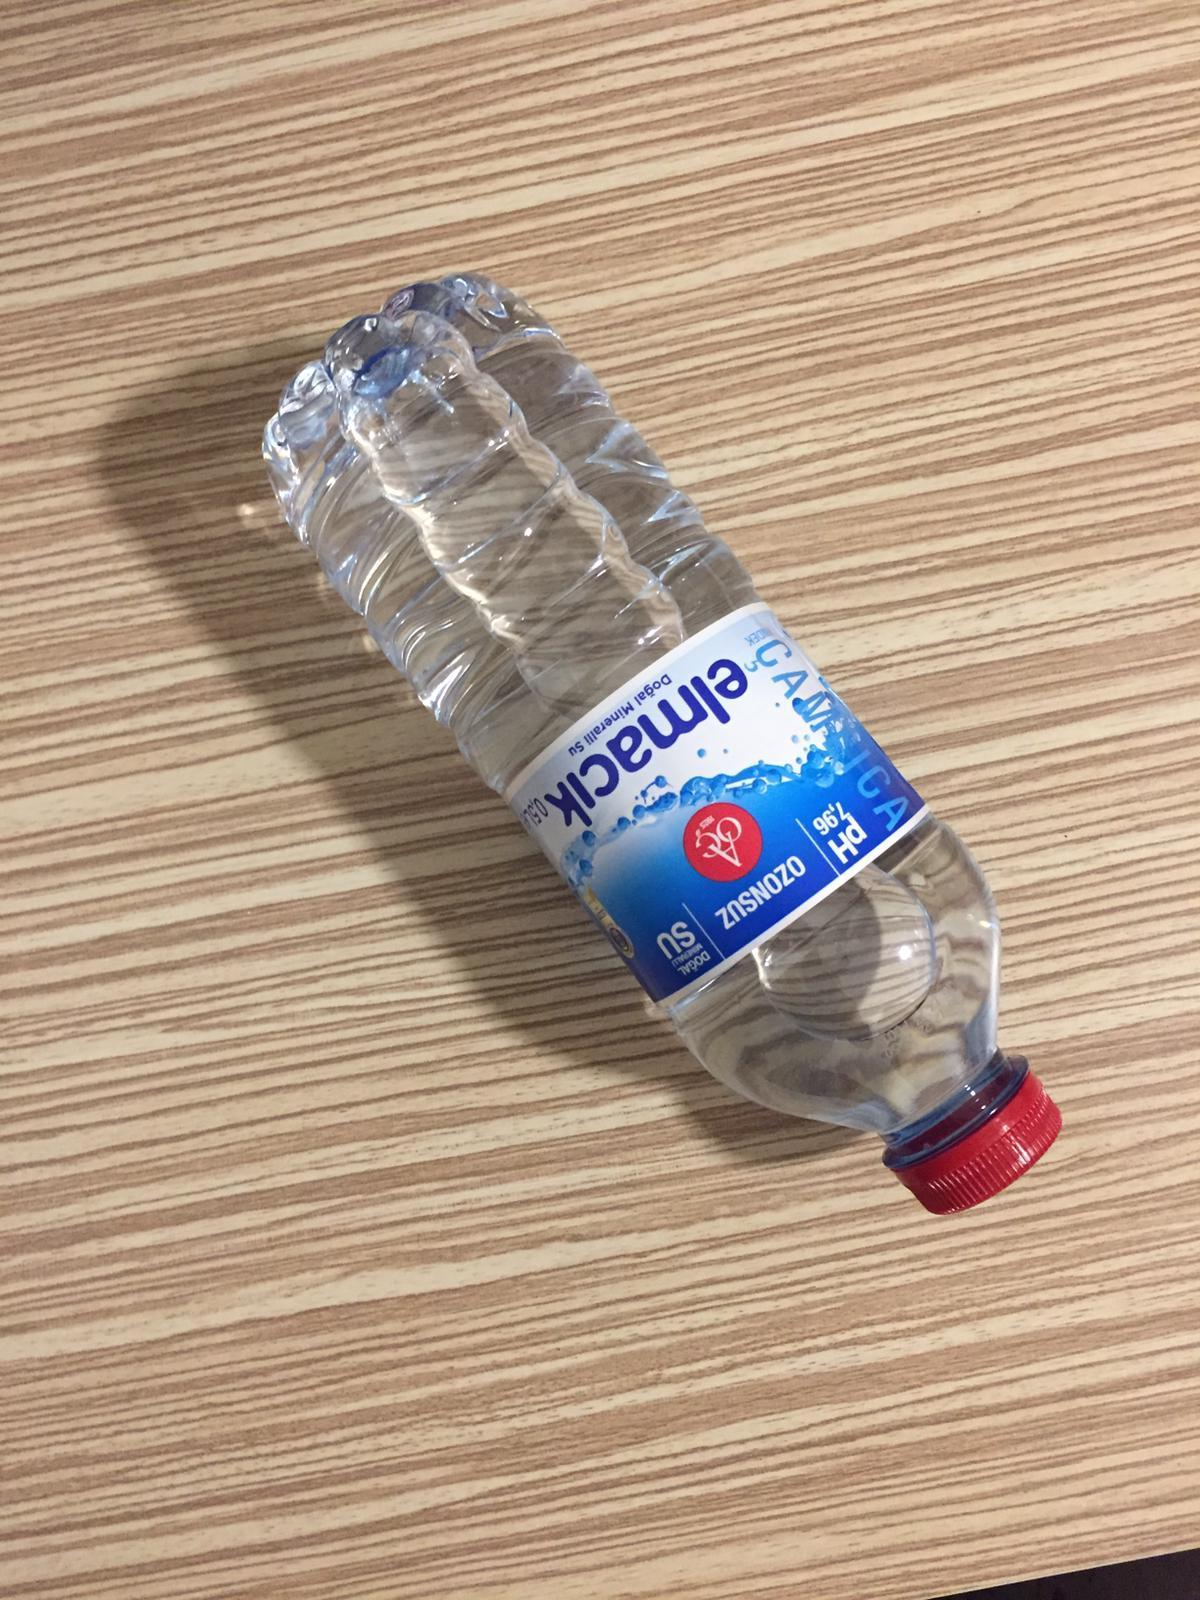bottle: (265, 272, 1065, 1225)
